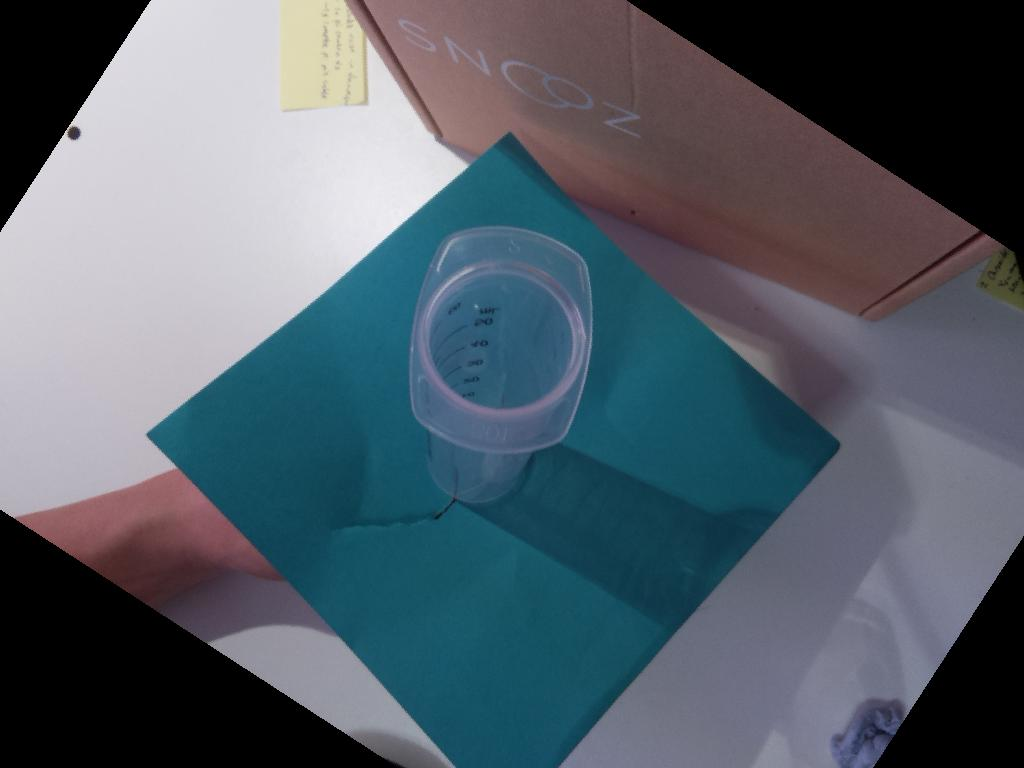clean: (407, 226, 594, 453)
